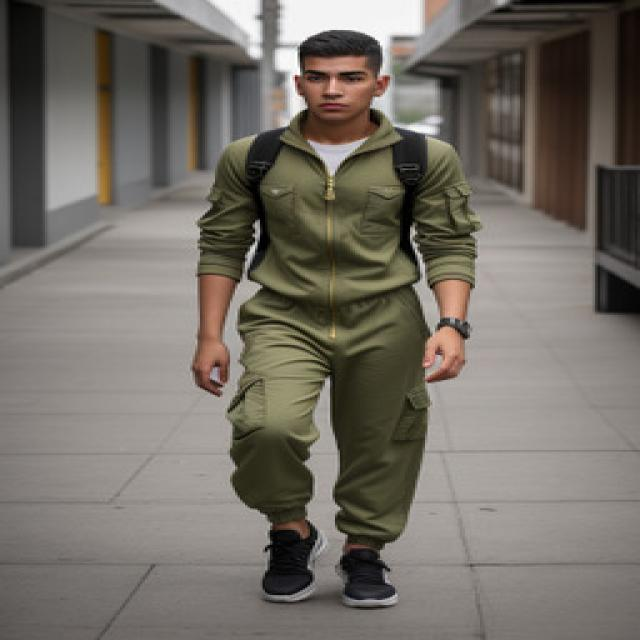Ai human 2: (174, 13, 484, 633)
